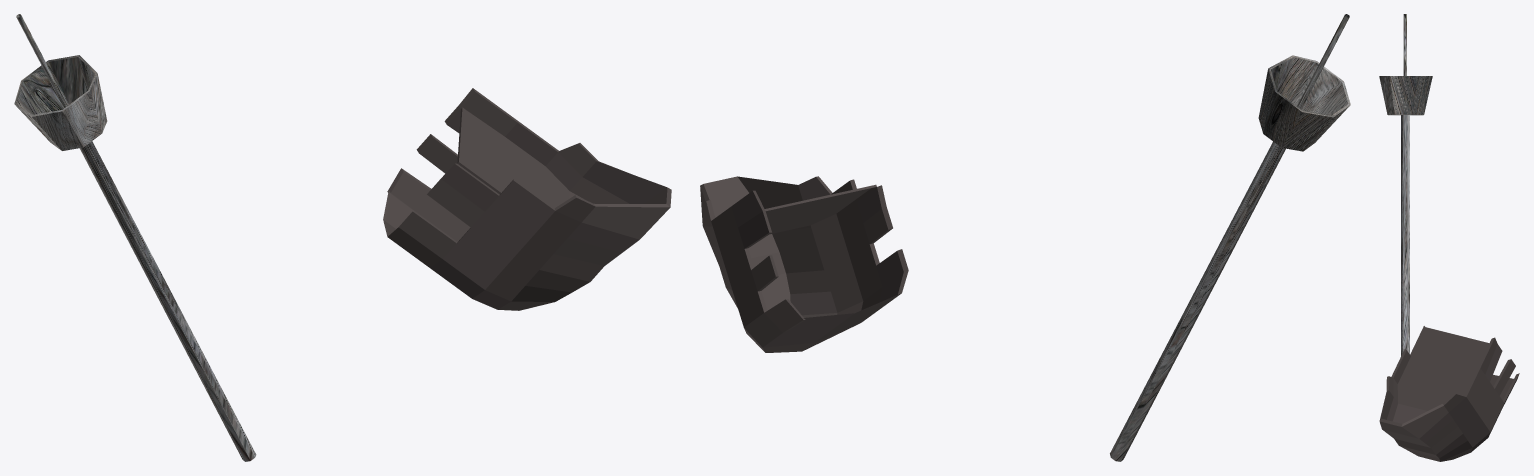
3 views of the same model, side by side, from view 1: azimuth 30°, elevation 25°; view 2: azimuth 150°, elevation 25°; view 3: azimuth 270°, elevation 25° (orthographic). The views are drawn at different scales.
Parts seen in each view (by area): view 1: Cube.001, Cylinder.041; view 2: Cube.001, Cylinder.041; view 3: Cube.001, Cylinder.041.
Part boxes in pixels (left/top/right/bottom): Cube.001: left=383, top=88, right=671, bottom=310; Cylinder.041: left=14, top=14, right=256, bottom=461; Cube.001: left=700, top=176, right=908, bottom=352; Cylinder.041: left=1110, top=14, right=1350, bottom=461; Cube.001: left=1379, top=326, right=1519, bottom=461; Cylinder.041: left=1379, top=14, right=1432, bottom=355.
Bounding box in the file's own units: 2.86 × 2.1 × 0.8364.
Materials: 2 (1 with a texture image).
